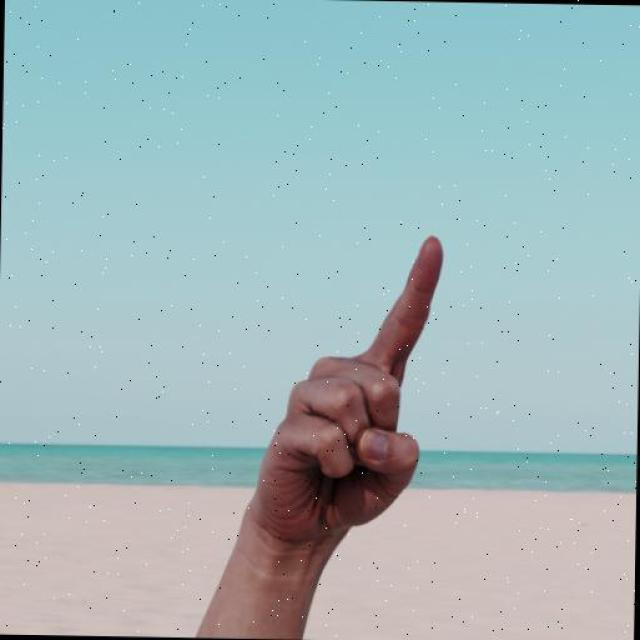Z: (238, 228, 449, 551)
